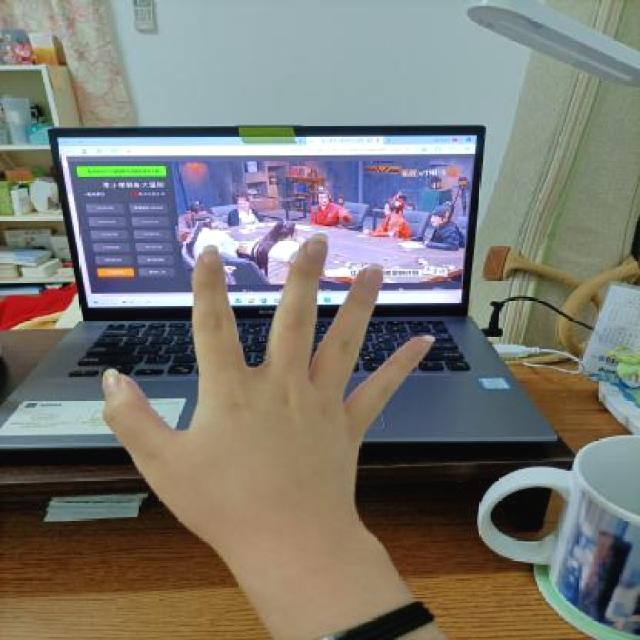no_glove: (77, 212, 465, 593)
